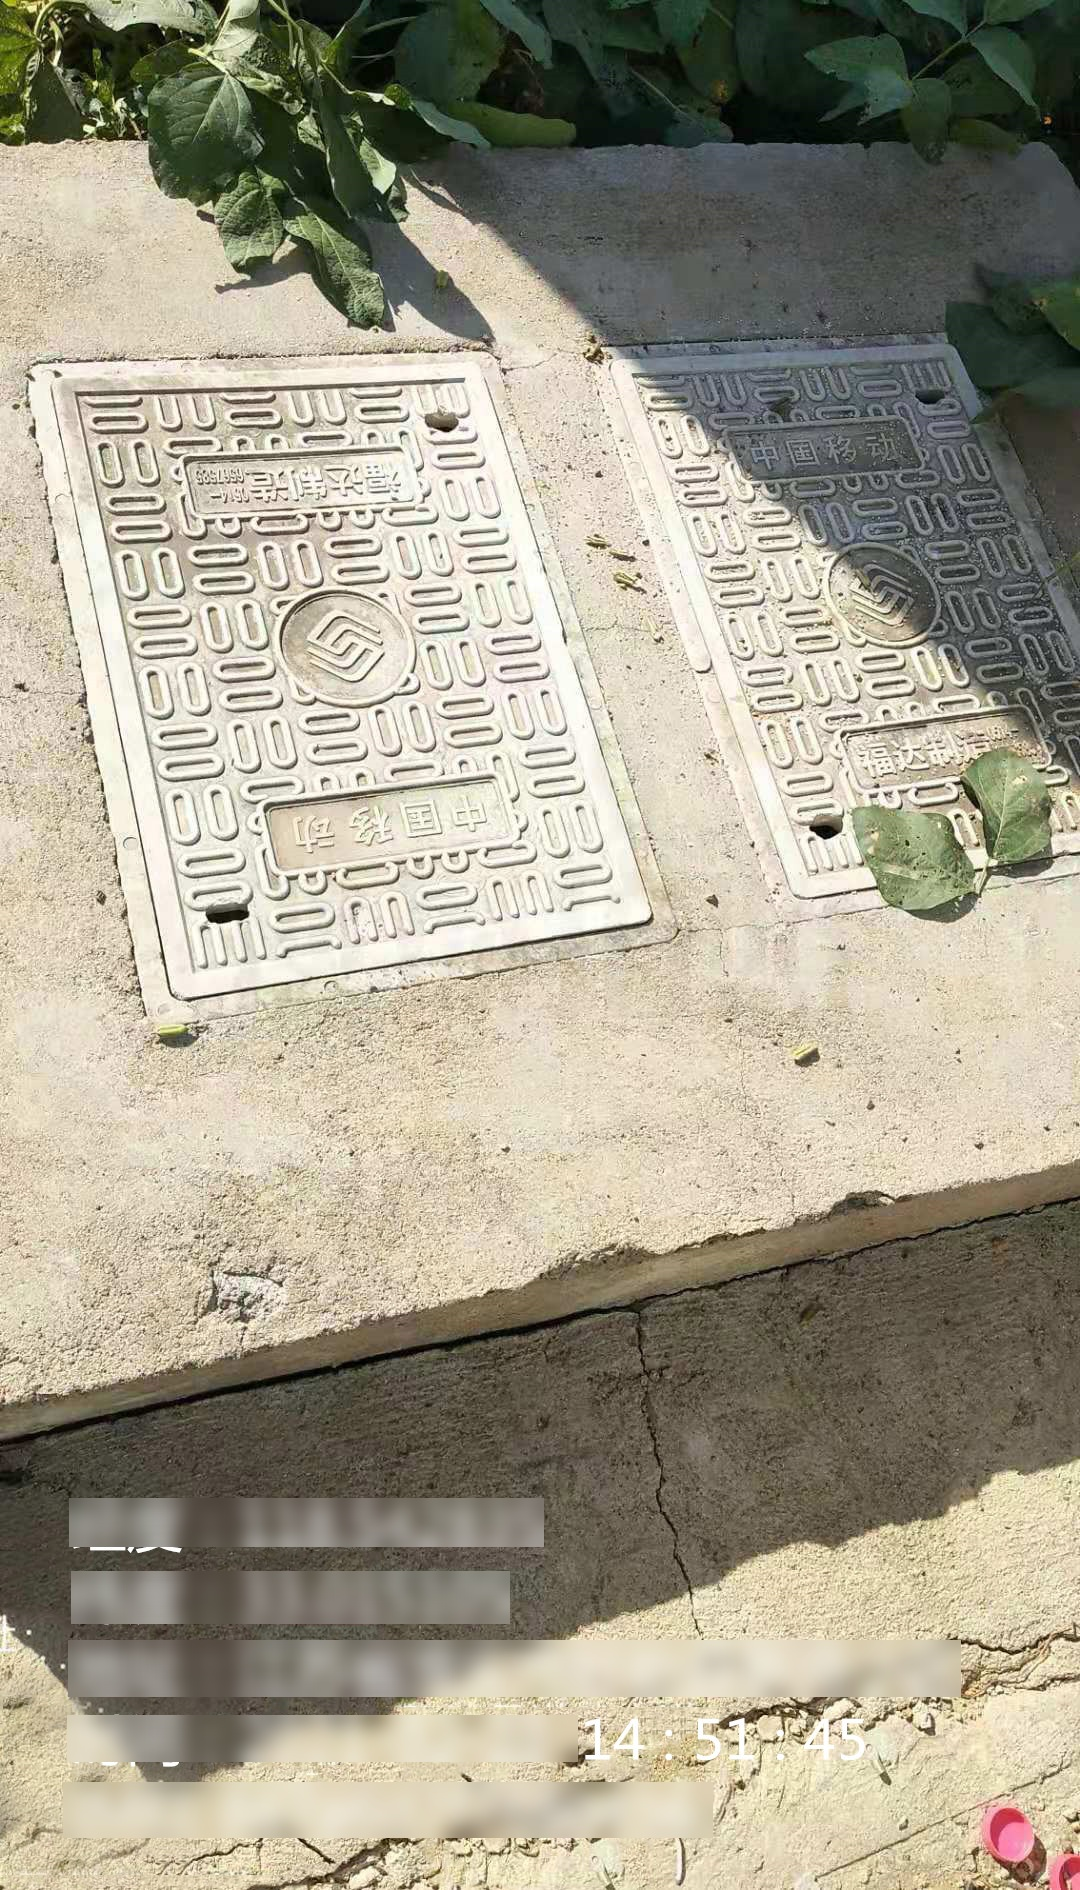well: (40, 337, 676, 1015), (615, 330, 1080, 923)
